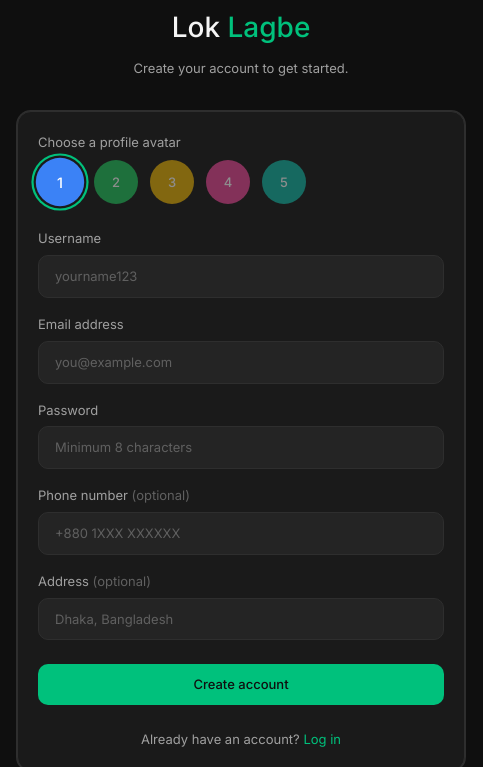
RegisterPage › shows success message when registration is successful
Type "testuser" into the field with placeholder "yourname123" at [241, 277], box [38,255,444,298]
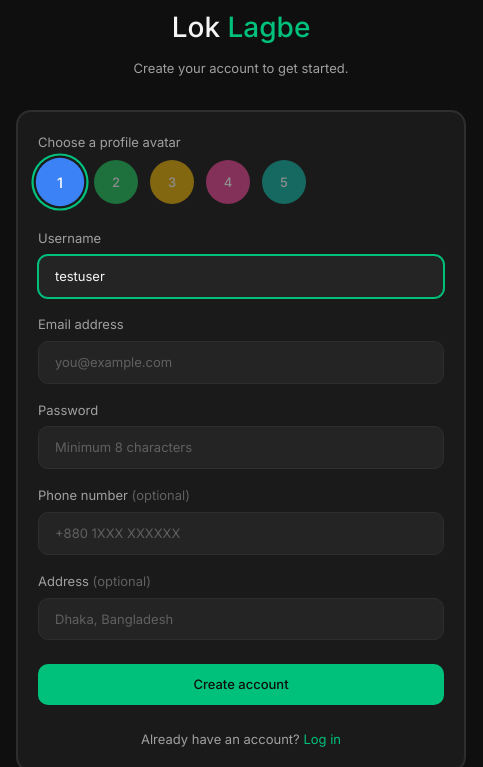
Type "test@test.com" into the field with placeholder "you@example.com" at [241, 362], box [38,341,444,384]
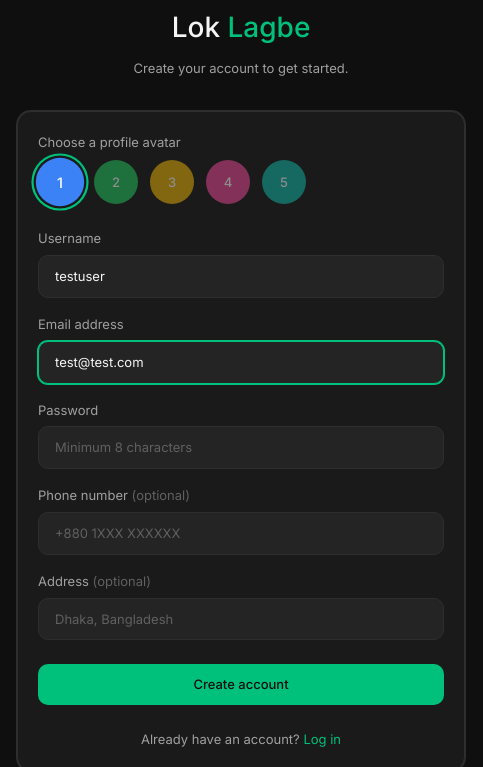
Type "testpass123" into the password field with placeholder "Minimum 8 characters" at [241, 448], box [38,426,444,469]
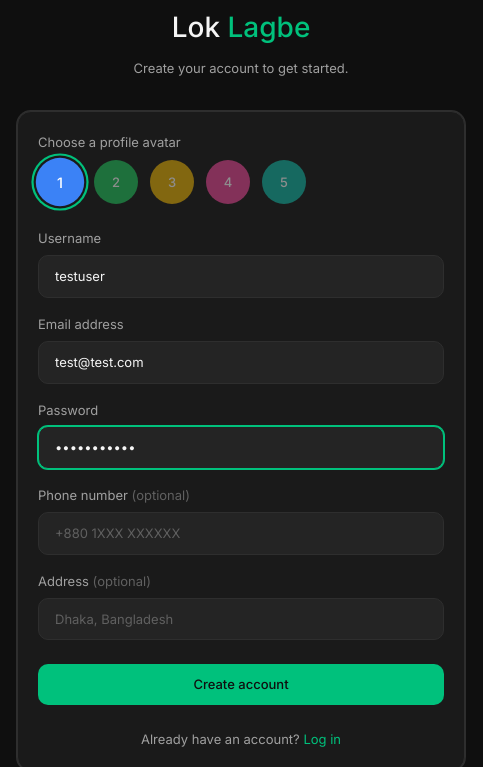
Click the button "Create account" at [241, 685], box [38,664,444,705]
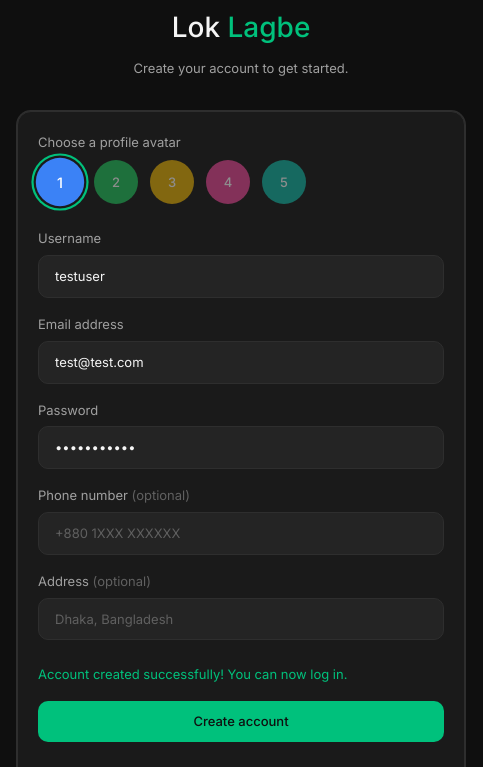
Check: the text "Account created successfully! You can now log in." is shown, box [38,666,347,682]
